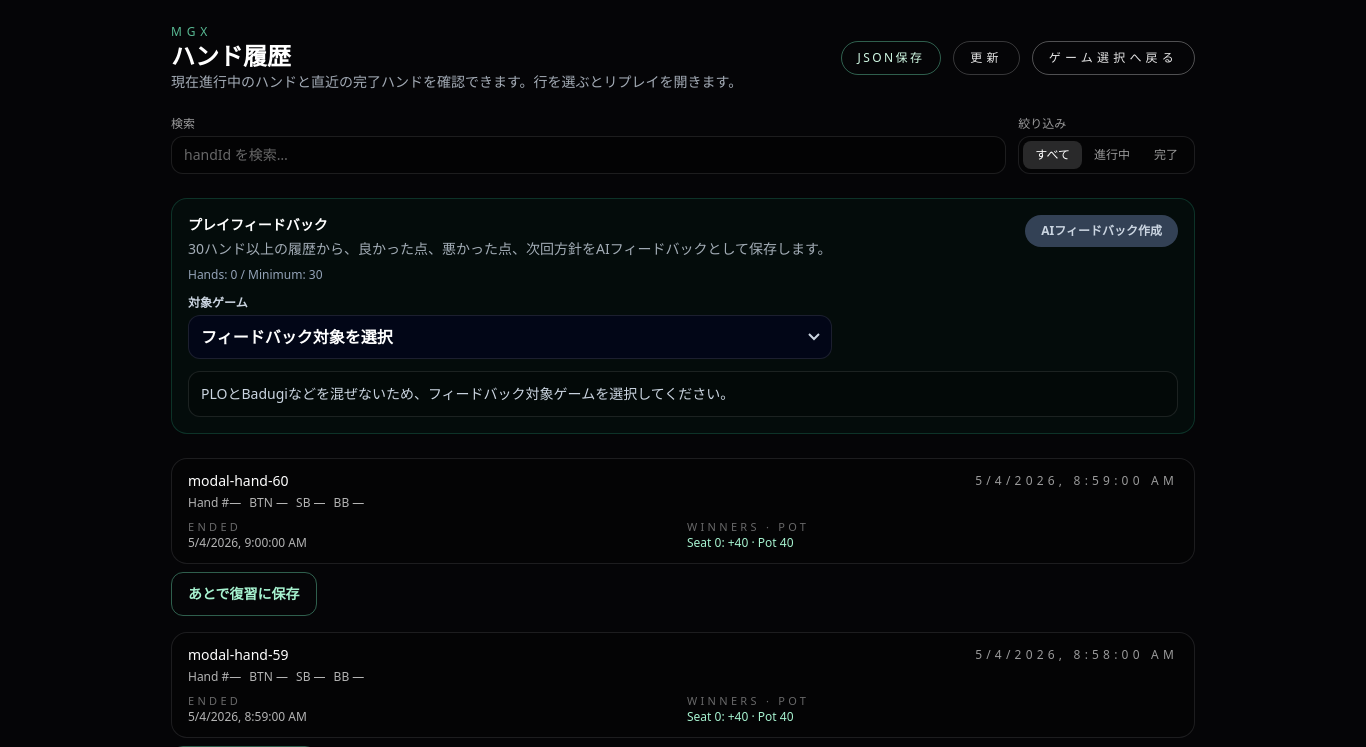
Test: HandHistoryScreen › lets players request feedback for a specific game instead of mixing variants
Select "Pot-Limit Omaha (30)" in the dropdown labelled "対象ゲーム" at point(510, 337), box [188,315,832,359]
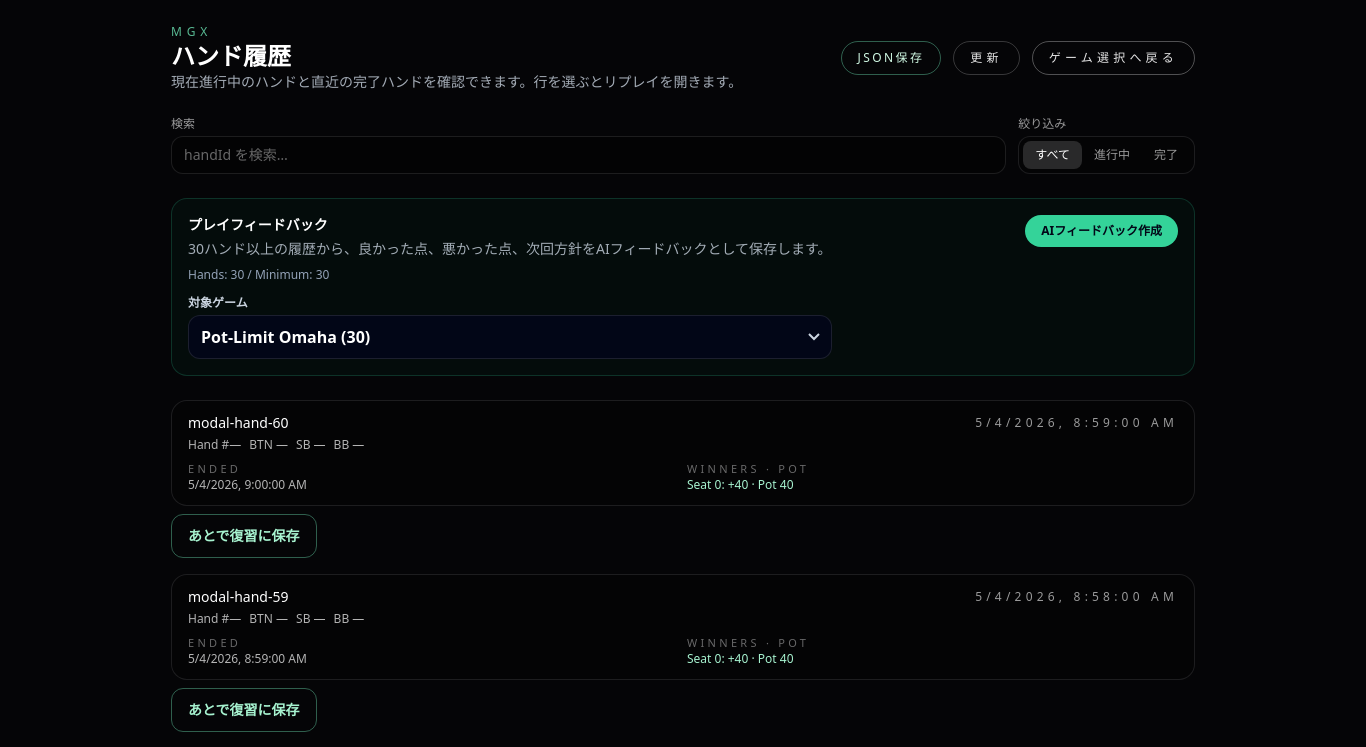
Click the button "AIフィードバック作成".
click(1102, 231)  # box [1025,215,1178,247]
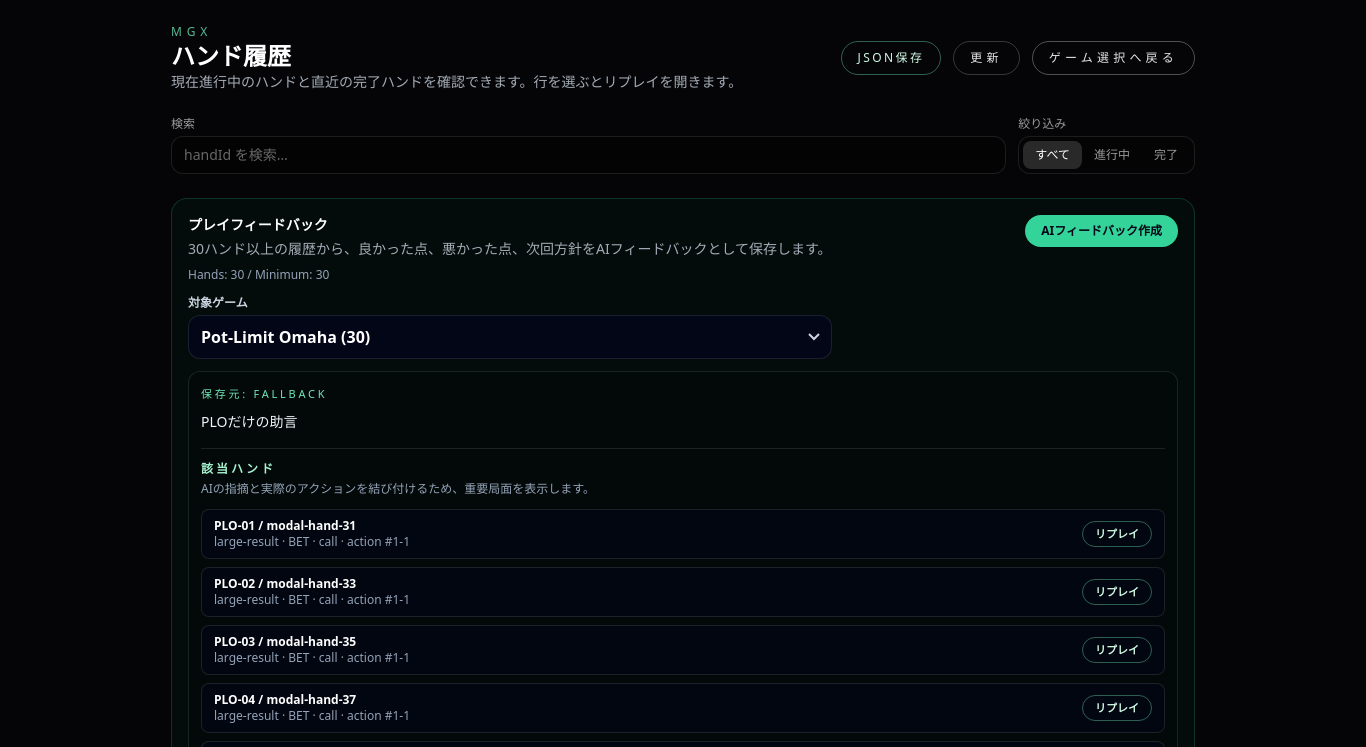
Result: the text "PLOだけの助言" is shown at [201,412,298,431]
